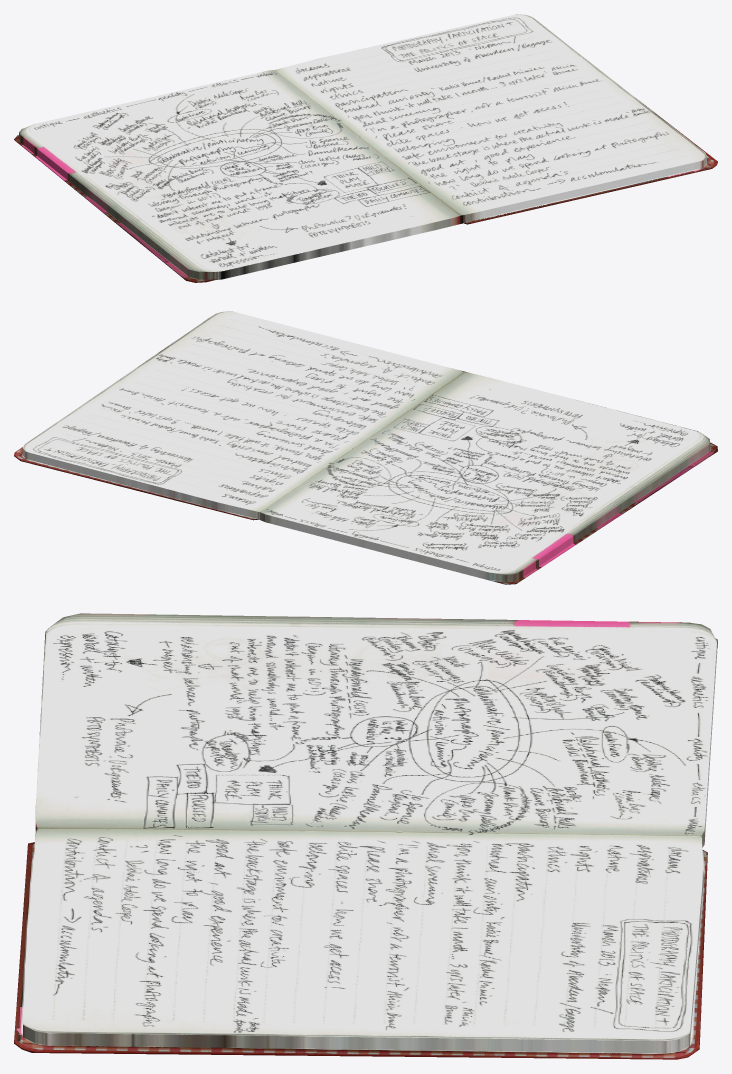
The model's file is notebook.dae.
3 renders of one model, top to bottom at view 1: azimuth 30°, elevation 25°; view 2: azimuth 150°, elevation 25°; view 3: azimuth 270°, elevation 25°, orthographic. The views are drawn at different scales.
Parts seen in each view (by area): view 1: group_0; view 2: group_0; view 3: group_0.
Boxes of the visible parts, bbox=[...] form: group_0: bbox=[14, 14, 717, 282]; group_0: bbox=[14, 311, 717, 584]; group_0: bbox=[14, 613, 717, 1059].
Bounding box in the file's own units: 13.95 × 9.49 × 0.2001.
Materials: 1 (1 with a texture image).
